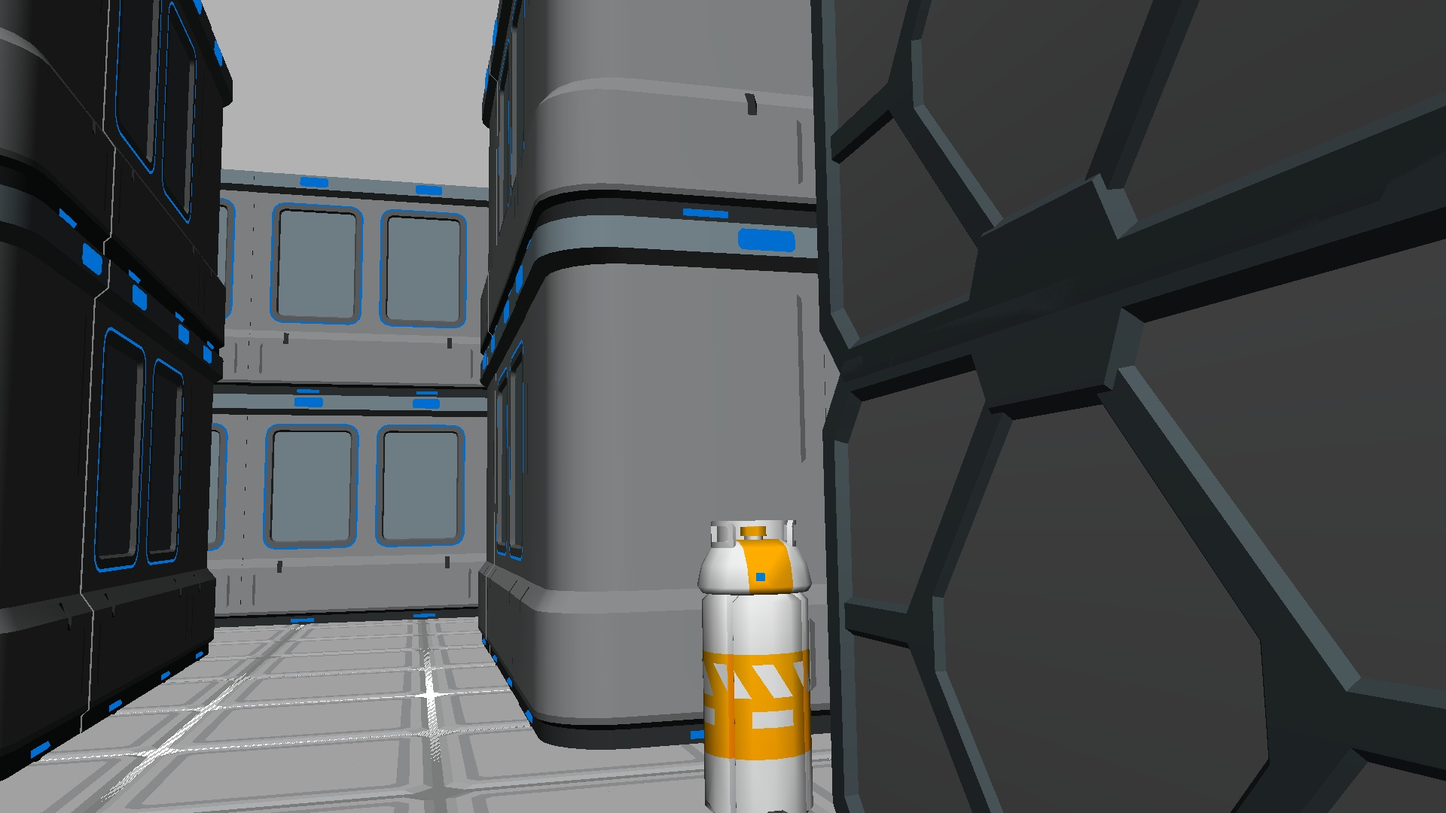yellow barrel: (697, 518, 814, 813)
